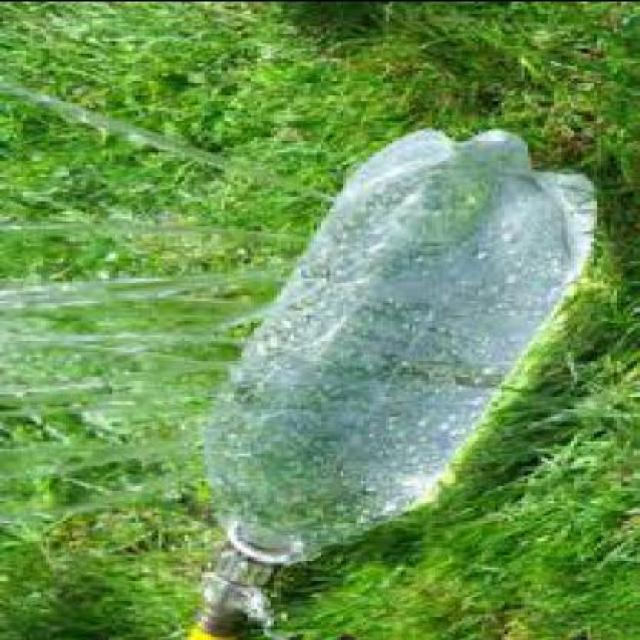PLASTIC: (201, 124, 594, 570)
